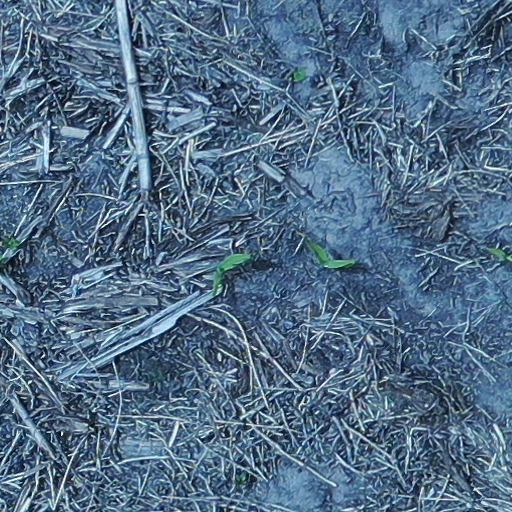planta: (212, 252, 253, 296), (309, 241, 357, 267)
